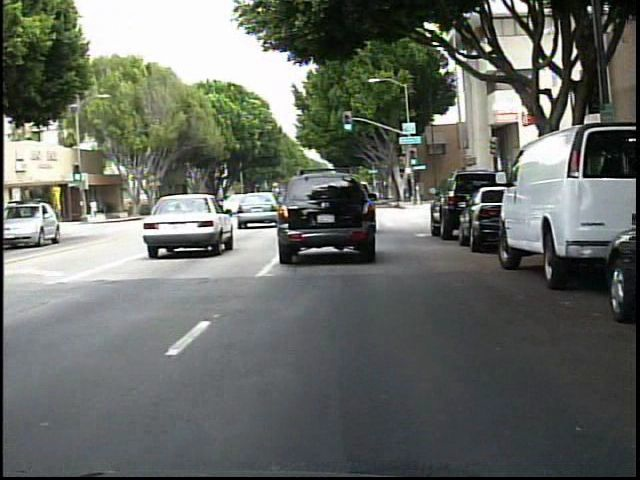person: (89, 198, 101, 221)
